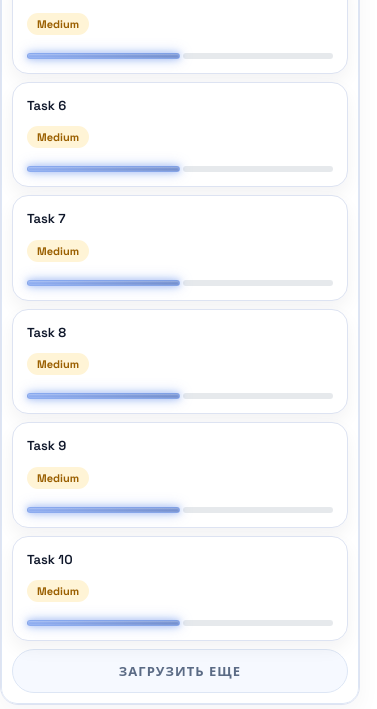
Test case: KanbanBoard › shows only ten cards per column until the user loads more
This screenshot has width=377, height=709.
(page scrolled)
Expected: the text "Task 10" is shown, 27,551 -> 72,568
Expected: the text "Task 11" is not shown
What coordinates should you click on to do the following:
click the button "ЗАГРУЗИТЬ ЕЩЕ"
I would click on:
 (180, 672)
Its box is 12,650 -> 348,694.
(page scrolled)
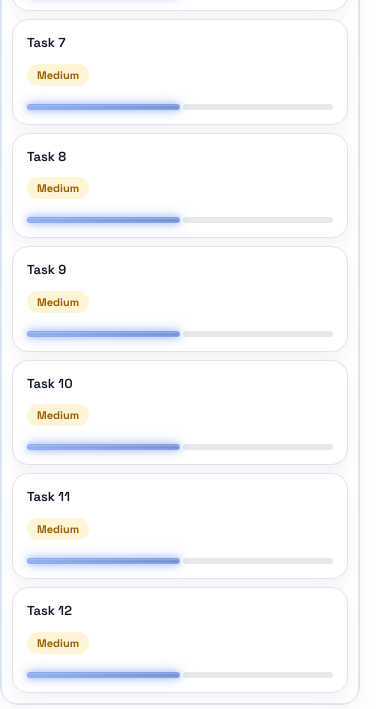
Result: the text "Task 11" is shown at 27,488 -> 70,506
Result: the text "Task 12" is shown at 27,602 -> 72,619
